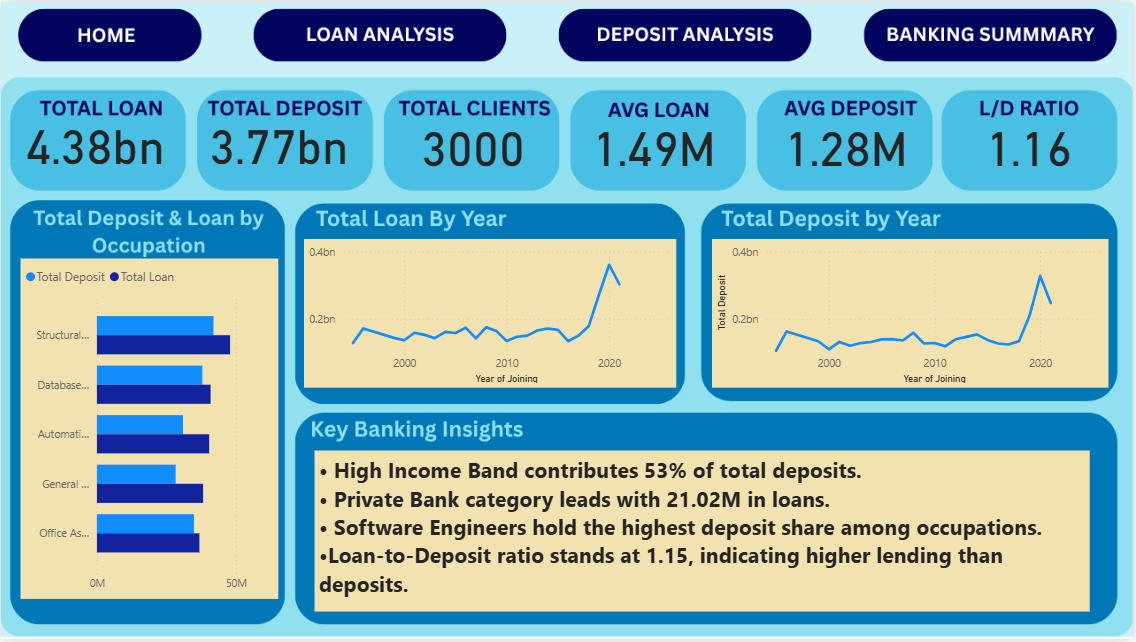

Layout of this report page (visuals, bound fields, positions):
{"tool":"powerbi","page":{"name":"Banking Summary & Key Insights","canvas":[1280,720],"ordinal":3},"visuals":[{"type":"card","fields":{"Values":["Banking.Total Loan"]},"box":[22,102,168,110],"z":0},{"type":"card","fields":{"Values":["Banking.Total Deposit"]},"box":[212,102,204,110],"z":1000},{"type":"card","fields":{"Values":["CountNonNull(Banking.Client ID)"]},"box":[457.6,110.2,150.8,98.3],"z":2000},{"type":"card","fields":{"Values":["MeasuresTable.Loan-to-Deposit Ratio"]},"box":[1071.2,108.5,179.7,100],"z":3000},{"type":"card","fields":{"Values":["MeasuresTable.Avg Deposit per Client"]},"box":[869.5,116.9,169.5,83.1],"z":4000},{"type":"card","fields":{"Values":["MeasuresTable.Avg Loan per Client"]},"box":[659.3,116.9,155.9,83.1],"z":5000},{"type":"lineChart","fields":{"Y":["Banking.Total Deposit"],"Category":["Banking.Year of Joining"]},"box":[802.7,267.9,448.2,167.9],"z":6000},{"type":"lineChart","fields":{"Category":["Banking.Year of Joining"],"Y":["Banking.Total Loan"]},"box":[342.4,267.8,420.3,167.8],"z":7000},{"type":"textbox","box":[354,506,876,182],"z":8000},{"type":"clusteredBarChart","fields":{"Category":["Banking.Occupation"],"Y":["Banking.Total Deposit","Banking.Total Loan"]},"box":[22,289.8,291.5,384.7],"z":9000},{"type":"actionButton","box":[22,0,210.2,69.5],"z":10000},{"type":"actionButton","box":[276.3,0,303.4,69.5],"z":11000},{"type":"actionButton","box":[628.8,0,289.8,69.5],"z":12000}]}

Visuals, with their boxes in screenshot pixels (x1, y1, x2, y2), scaled from the page's 1280x720 canvas onto the 1136x642 screenshot:
card - Banking.Total Loan: [20,91,169,189]
card - Banking.Total Deposit: [188,91,369,189]
card - CountNonNull(Banking.Client ID): [406,98,540,186]
card - MeasuresTable.Loan-to-Deposit Ratio: [951,97,1110,186]
card - MeasuresTable.Avg Deposit per Client: [772,104,922,178]
card - MeasuresTable.Avg Loan per Client: [585,104,723,178]
lineChart - Banking.Total Deposit x Banking.Year of Joining: [712,239,1110,389]
lineChart - Banking.Year of Joining x Banking.Total Loan: [304,239,677,388]
textbox: [314,451,1092,613]
clusteredBarChart - Banking.Occupation x Banking.Total Deposit: [20,258,278,601]
actionButton: [20,0,206,62]
actionButton: [245,0,514,62]
actionButton: [558,0,815,62]
